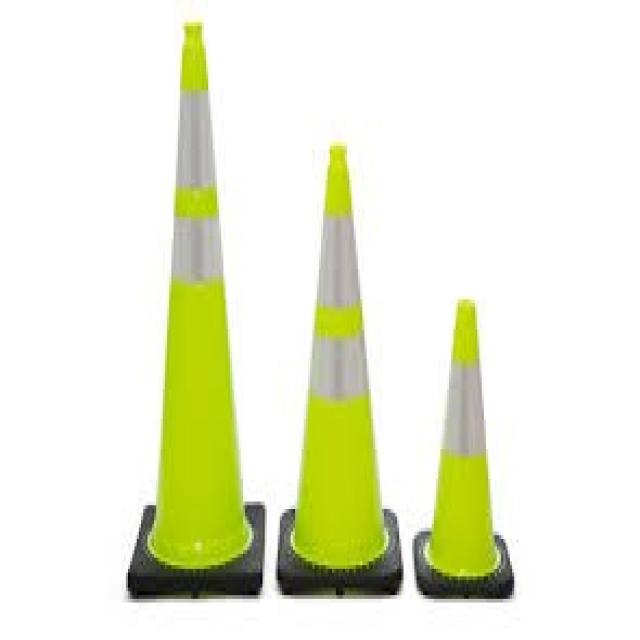Traffic-cone: (124, 12, 270, 604), (276, 125, 406, 601), (414, 293, 521, 601)
